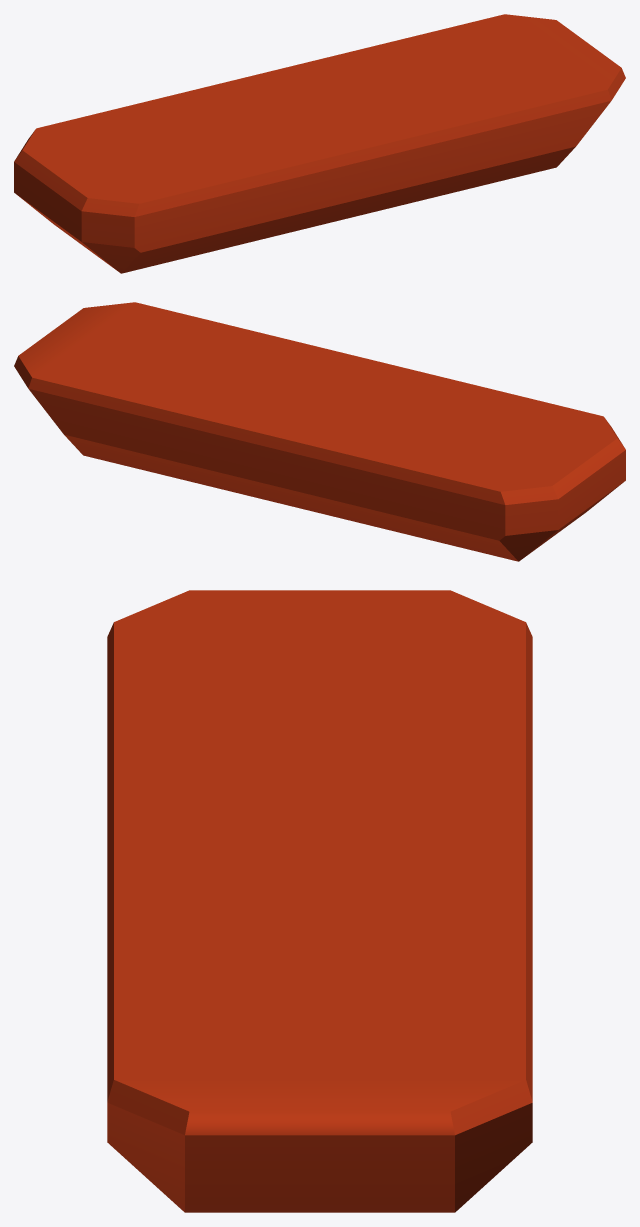
The model's file is AR1_HandleBottom.fbx.
3 views of the same model, one above another, from view 1: azimuth 30°, elevation 25°; view 2: azimuth 150°, elevation 25°; view 3: azimuth 270°, elevation 25° (orthographic). The views are drawn at different scales.
Parts seen in each view (by area): view 1: AR1_HandleBottom; view 2: AR1_HandleBottom; view 3: AR1_HandleBottom.
Boxes of the visible parts, <box> form: AR1_HandleBottom: <box>14,14,625,273</box>; AR1_HandleBottom: <box>14,302,625,561</box>; AR1_HandleBottom: <box>107,590,532,1212</box>.
Bounding box in the file's own units: 20.94 × 3.05 × 7.09.
